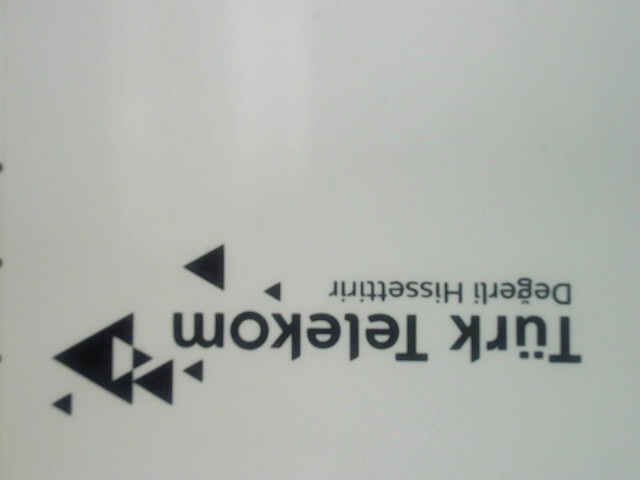AQ_TURKTelekom: (33, 240, 586, 429)
